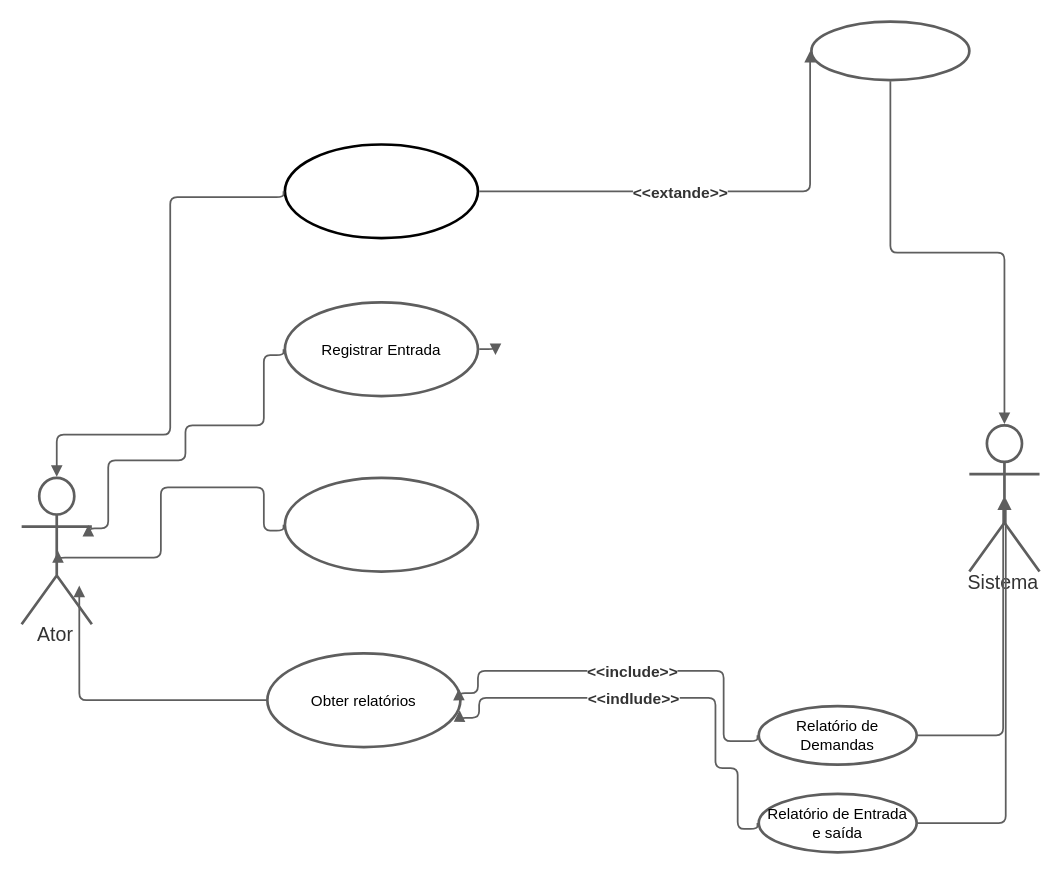
The diagram is 1061 pixels wide and 874 high, and some of its shapes have lost their labels. The shapes that lost their labels are listed below. From the top down, each one's centre as x and y in pixels, then its label:
At [890,50]: "Alerta de Estoque Baixo".
At [381,191]: "Verificar Situação de Estoque".
At [381,524]: "Registrar Saída".
